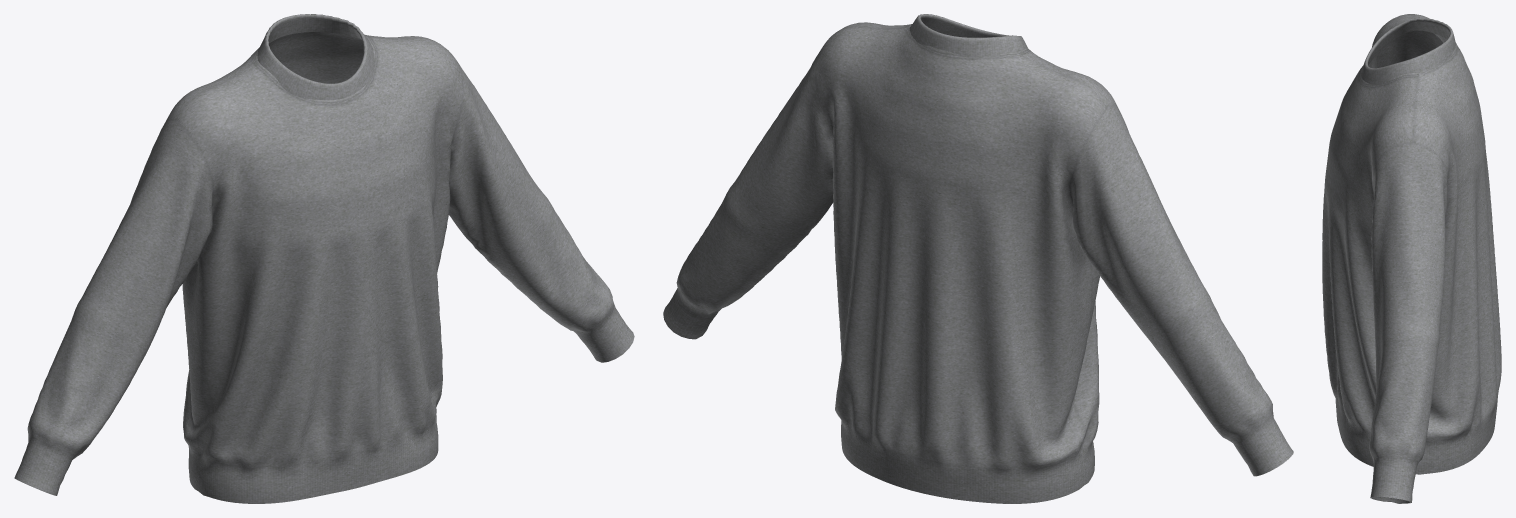
The model's file is sweatshirt.glb.
3 views of the same model, side by side, from view 1: azimuth 30°, elevation 25°; view 2: azimuth 150°, elevation 25°; view 3: azimuth 270°, elevation 25° (orthographic). The views are drawn at different scales.
Visible parts, largest first — view 1: outside, collar, inside; view 2: outside, collar; view 3: outside, collar, inside.
Part boxes in pixels (x1=…): outside: x1=14, y1=35, x2=634, y2=503; collar: x1=257, y1=14, x2=374, y2=100; inside: x1=269, y1=32, x2=363, y2=83; outside: x1=663, y1=22, x2=1293, y2=503; collar: x1=909, y1=14, x2=1027, y2=58; outside: x1=1322, y1=14, x2=1501, y2=502; collar: x1=1361, y1=17, x2=1455, y2=84; inside: x1=1368, y1=30, x2=1446, y2=503.
Size of the model in its own units: 1.04 by 0.7068 by 0.2928.
2 materials, 2 textured.
